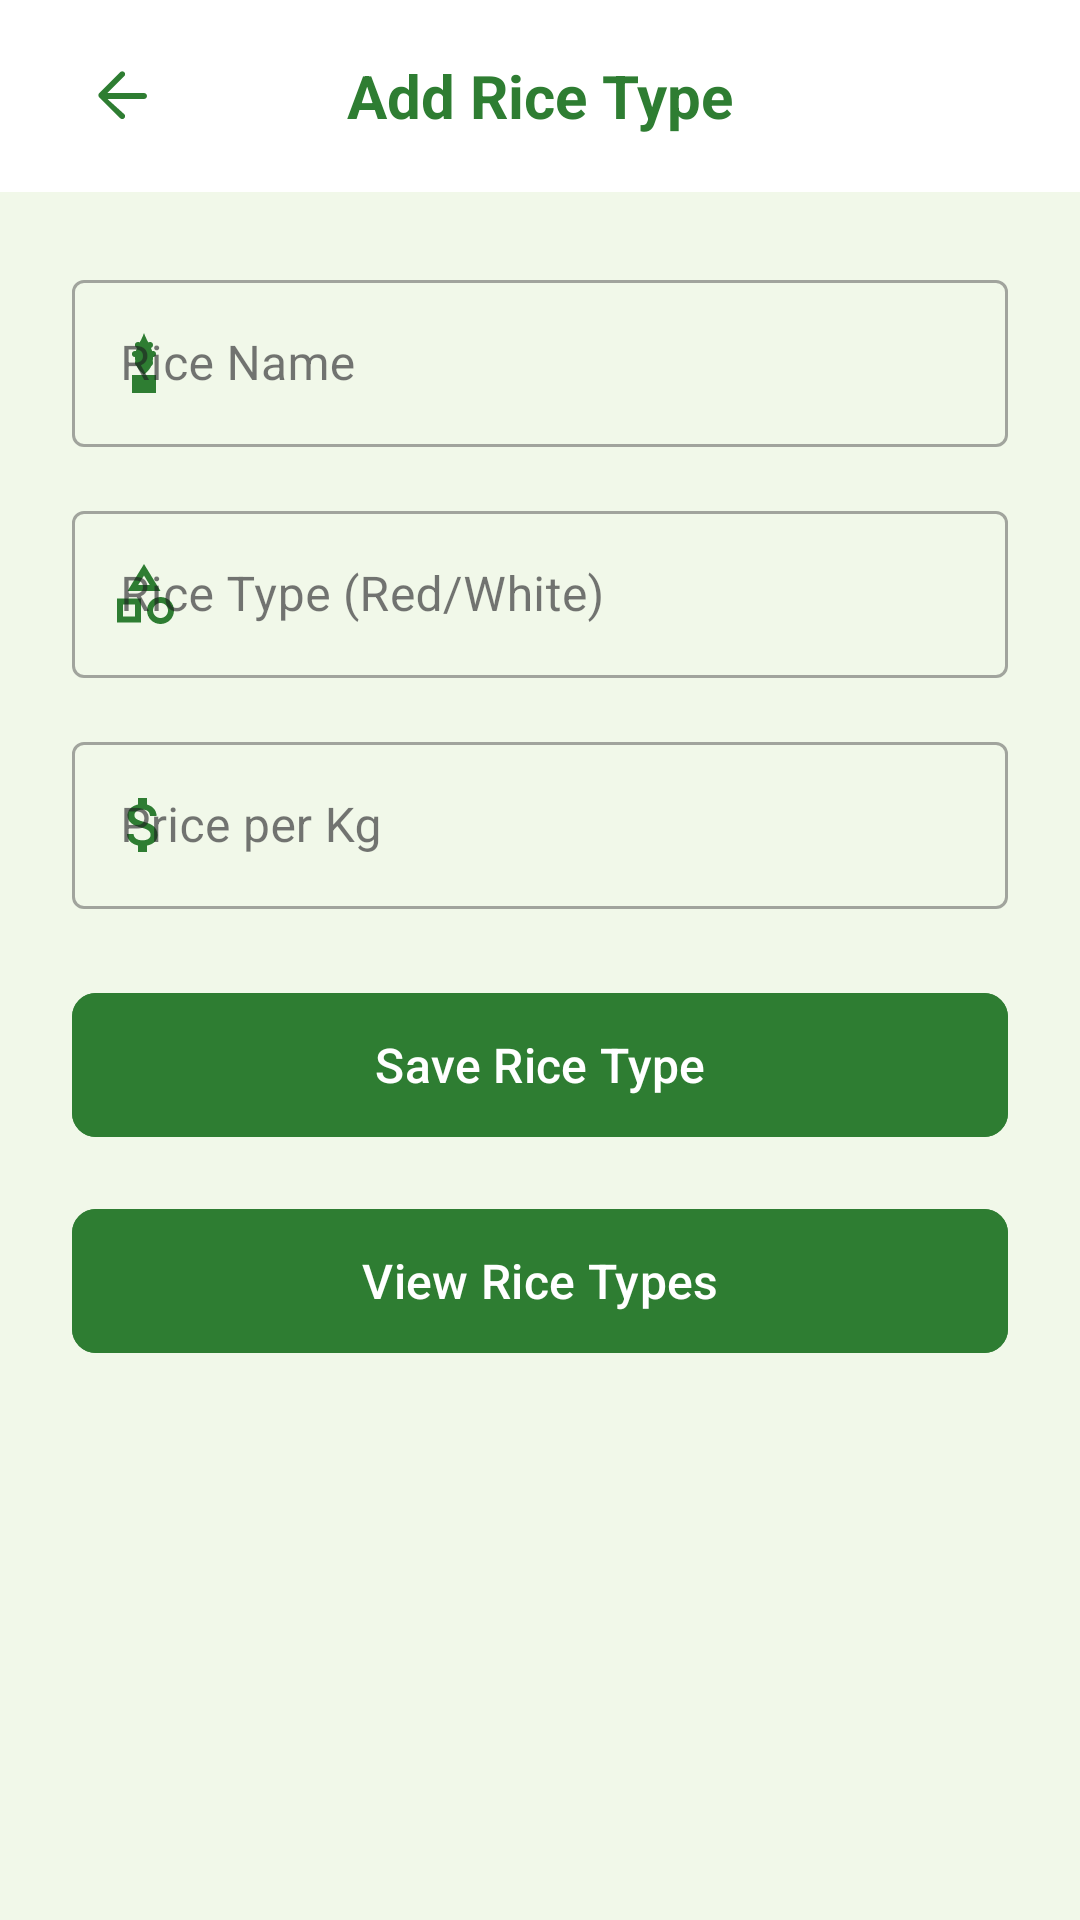

Icon click points for this 1080px×1920px phone screenshot, format (x=x, y=y):
Back: (x=122, y=95)
